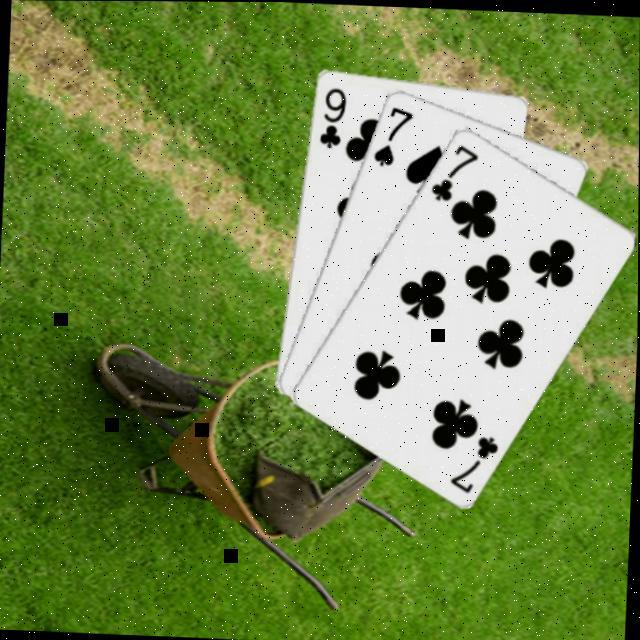7C: (449, 428, 503, 494), (429, 137, 483, 202)
7S: (372, 99, 418, 166)
9C: (317, 81, 350, 148)
